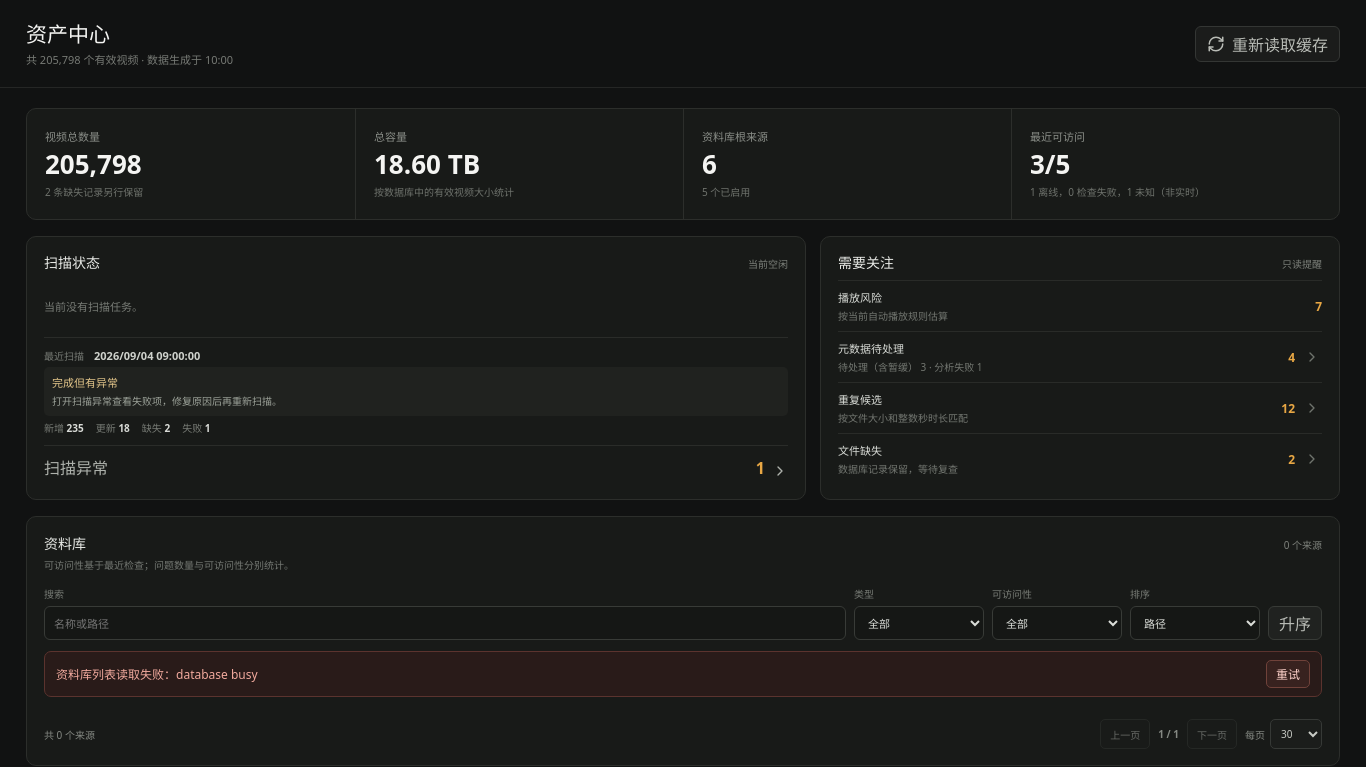
Test: AssetCenterPage › keeps source errors local, supports empty results, and retries only read-only loaders
This screenshot has width=1366, height=767.
Check: the message "资料库列表读取失败：database busy 重试" is shown, box [44, 651, 1322, 697]
Check: the text "没有符合筛选条件的资料库" is not shown
Click the button "重试". click: (1288, 674)
box: [1266, 660, 1310, 688]
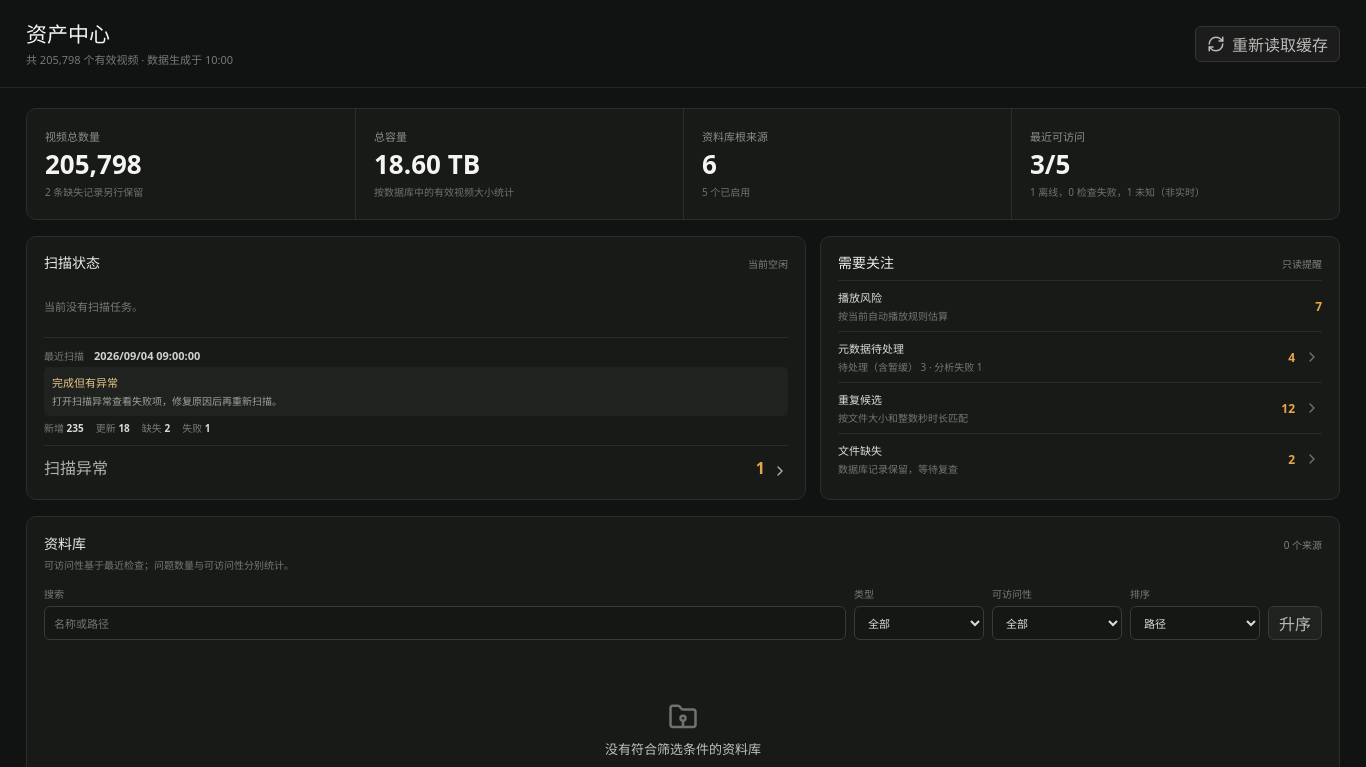
Check: the text "没有符合筛选条件的资料库" is shown, box [605, 739, 761, 758]
